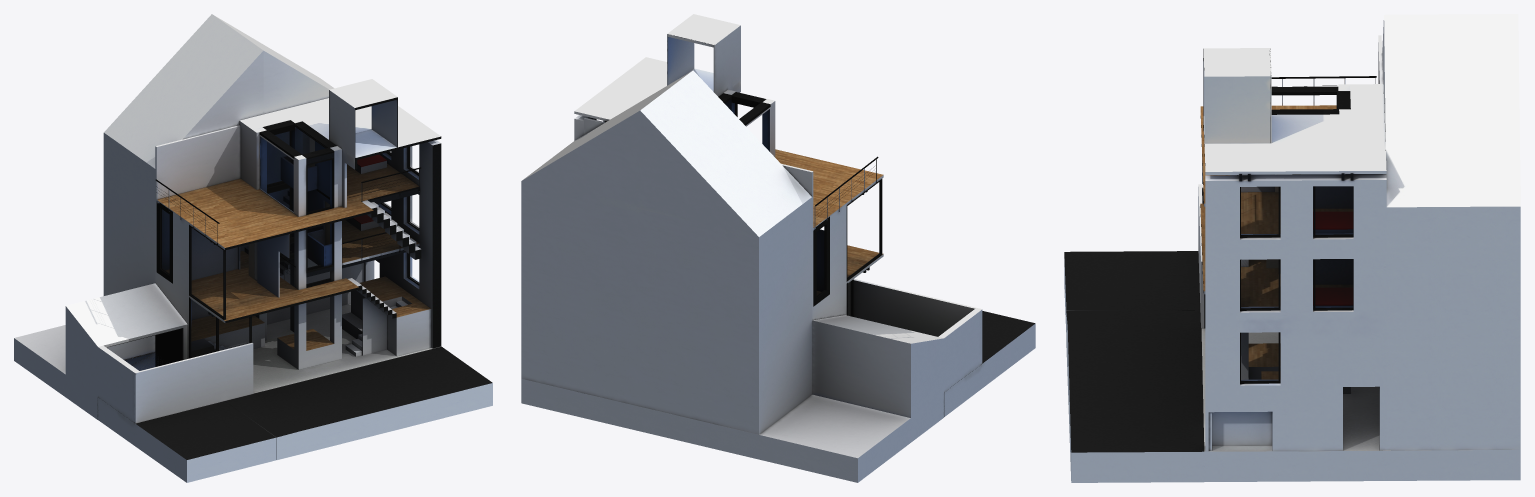
File: house.gltf
3 renders of one model, left to right at view 1: azimuth 30°, elevation 25°; view 2: azimuth 150°, elevation 25°; view 3: azimuth 270°, elevation 25°, orthographic. The views are drawn at different scales.
Parts seen in each view (by area): view 1: Object003_Object003_mtl_0, Object002_Object002_mtl_0, Object001_Object001_mtl_0, Object004_Object004_mtl_0; view 2: Object004_Object004_mtl_0, Object003_Object003_mtl_0, Object002_Object002_mtl_0, Object001_Object001_mtl_0; view 3: Object004_Object004_mtl_0, Object001_Object001_mtl_0, Object002_Object002_mtl_0, Object003_Object003_mtl_0.
Boxes of the visible parts, box(x1,y1,x2,y2) form: Object003_Object003_mtl_0: box(65, 14, 492, 482); Object002_Object002_mtl_0: box(14, 97, 492, 459); Object001_Object001_mtl_0: box(155, 79, 440, 355); Object004_Object004_mtl_0: box(103, 15, 431, 357); Object004_Object004_mtl_0: box(521, 71, 883, 434); Object003_Object003_mtl_0: box(521, 70, 1035, 482); Object002_Object002_mtl_0: box(605, 92, 1035, 482); Object001_Object001_mtl_0: box(574, 14, 883, 309); Object004_Object004_mtl_0: box(1202, 14, 1520, 450); Object001_Object001_mtl_0: box(1203, 48, 1386, 451); Object002_Object002_mtl_0: box(1064, 49, 1382, 452); Object003_Object003_mtl_0: box(1064, 20, 1520, 482).
Size of what is drawn, in the model's own units: 1435 by 1301 by 1361.
4 materials, 4 textured.
